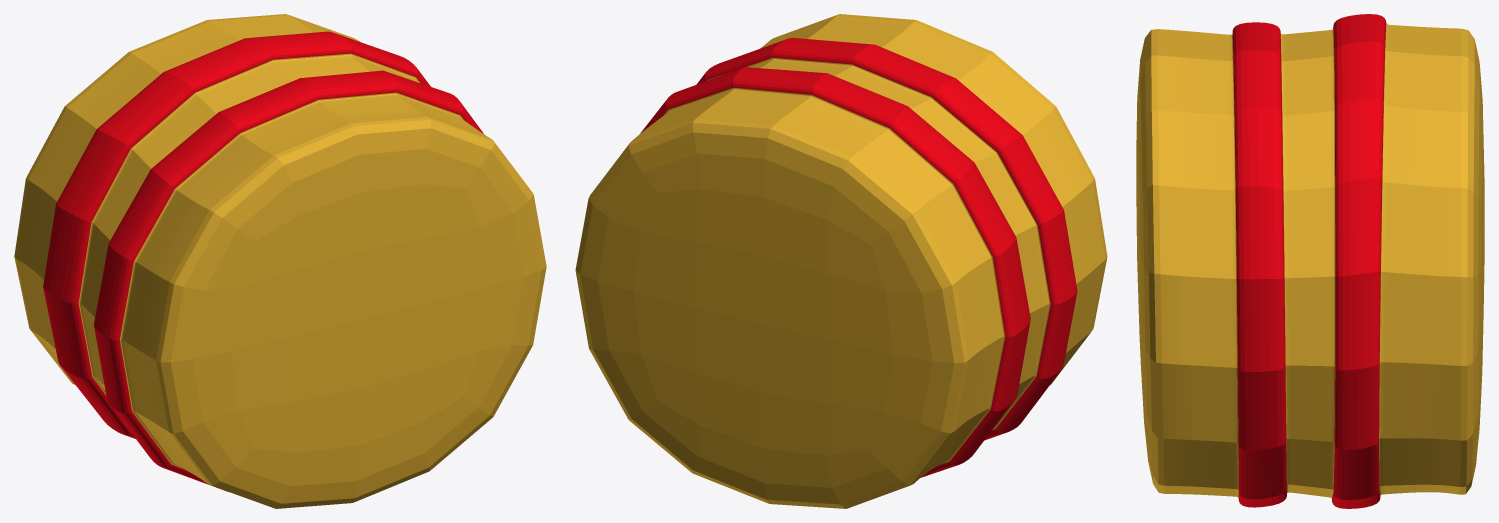
File: Hay.fbx
The picture shows the model from 3 angles, left to right: view 1: azimuth 30°, elevation 25°; view 2: azimuth 150°, elevation 25°; view 3: azimuth 270°, elevation 25°; orthographic projection. The views are drawn at different scales.
Parts seen in each view (by area): view 1: Cube; view 2: Cube; view 3: Cube.
Part boxes in pixels (bbox=[...]): Cube: bbox=[14, 14, 546, 508]; Cube: bbox=[575, 14, 1107, 508]; Cube: bbox=[1136, 14, 1484, 508].
Size of the model in its own units: 379 by 355 by 256.
